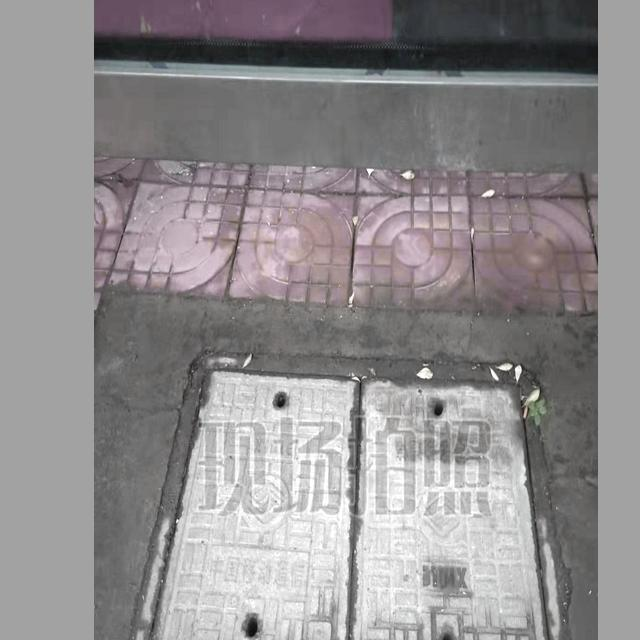good: (128, 351, 575, 640)
